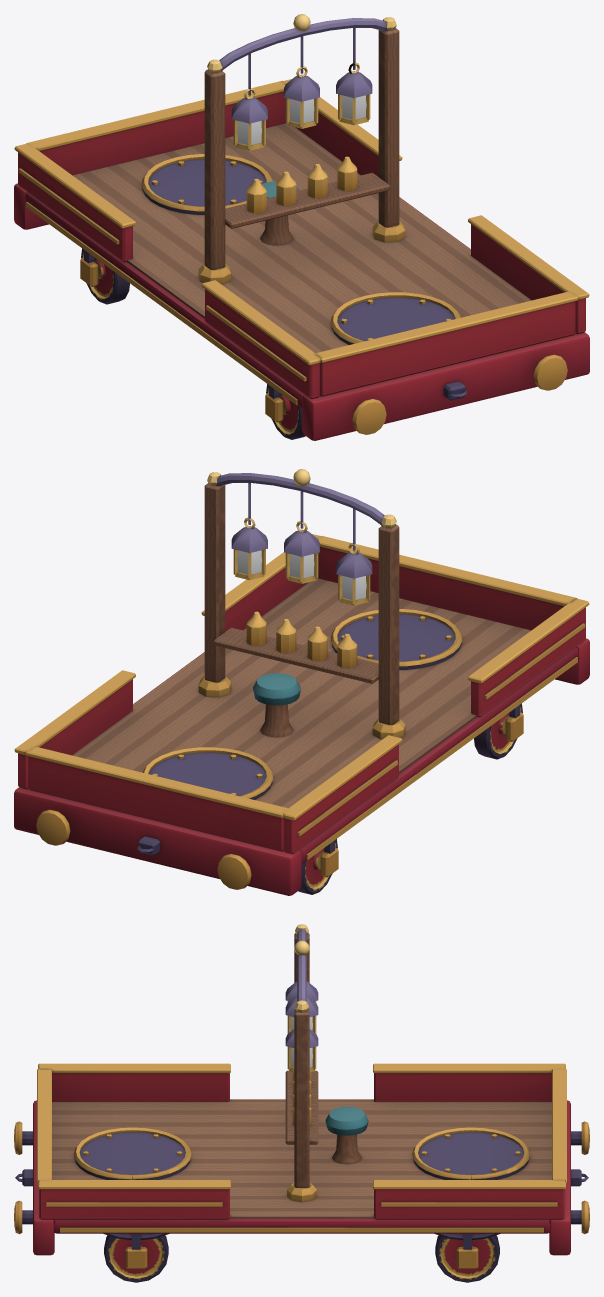
File: train_car_lamp.fbx
The picture shows the model from 3 angles, top to bottom: view 1: azimuth 30°, elevation 25°; view 2: azimuth 150°, elevation 25°; view 3: azimuth 270°, elevation 25°; orthographic projection. The views are drawn at different scales.
Parts seen in each view (by area): view 1: train_car_lamp, train_car_lamp_lamp_glow; view 2: train_car_lamp, train_car_lamp_lamp_glow; view 3: train_car_lamp.
Boxes of the visible parts, x1,y1,x2,y2 form: train_car_lamp: (14, 14, 589, 440); train_car_lamp_lamp_glow: (237, 95, 366, 144); train_car_lamp: (14, 469, 589, 895); train_car_lamp_lamp_glow: (237, 550, 366, 599); train_car_lamp: (14, 924, 589, 1282).
Size of the model in its own units: 808 by 900 by 1600.
2 materials, 1 textured.
